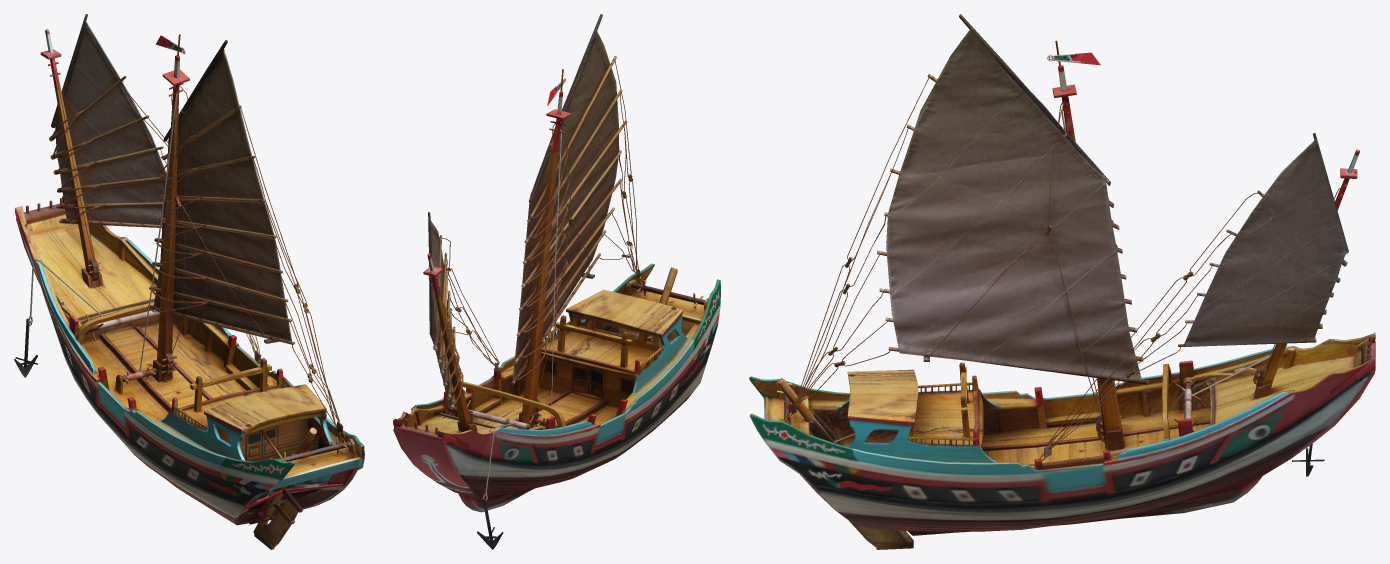
File: fuchuan.fbx
3 renders of one model, left to right at view 1: azimuth 30°, elevation 25°; view 2: azimuth 150°, elevation 25°; view 3: azimuth 270°, elevation 25°, orthographic. The views are drawn at different scales.
Parts seen in each view (by area): view 1: fuchuan2:fuchuan1; view 2: fuchuan2:fuchuan1; view 3: fuchuan2:fuchuan1.
Part boxes in pixels (<box>): fuchuan2:fuchuan1: <box>14,14,364,549</box>; fuchuan2:fuchuan1: <box>393,14,720,549</box>; fuchuan2:fuchuan1: <box>749,14,1375,549</box>.
Bounding box in the file's own units: 0.8983 × 2.88 × 3.08.
